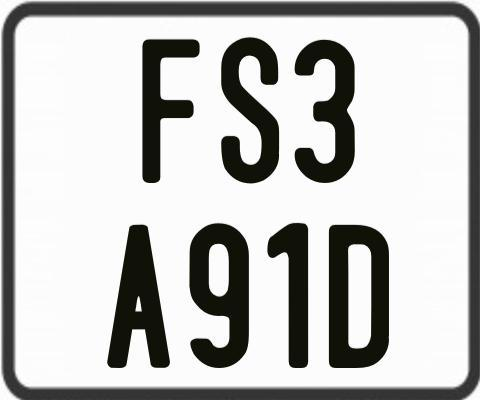1: (267, 221, 312, 369)
3: (292, 40, 353, 188)
9: (187, 223, 252, 369)
A: (104, 222, 168, 368)
D: (326, 225, 388, 368)
F: (139, 39, 199, 187)
S: (221, 37, 283, 184)
